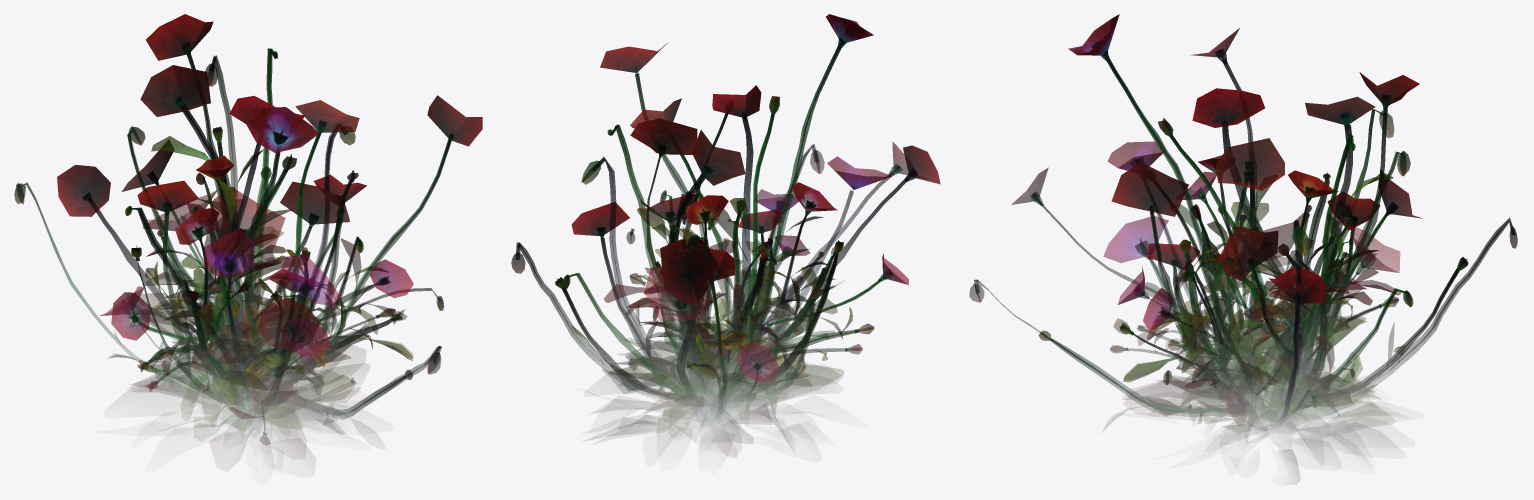
The model's file is vmcobd0ja_tier_3.gltf.
3 views of the same model, side by side, from view 1: azimuth 30°, elevation 25°; view 2: azimuth 150°, elevation 25°; view 3: azimuth 270°, elevation 25° (orthographic). The views are drawn at different scales.
Parts seen in each view (by area): view 1: SM_vmcobd0ja_VarC, SM_vmcobd0ja_VarF, SM_vmcobd0ja_VarE, SM_vmcobd0ja_VarD, SM_vmcobd0ja_VarB, SM_vmcobd0ja_VarG, SM_vmcobd0ja_VarA, SM_vmcobd0ja_VarH; view 2: SM_vmcobd0ja_VarC, SM_vmcobd0ja_VarE, SM_vmcobd0ja_VarB, SM_vmcobd0ja_VarD, SM_vmcobd0ja_VarF, SM_vmcobd0ja_VarG, SM_vmcobd0ja_VarH, SM_vmcobd0ja_VarA; view 3: SM_vmcobd0ja_VarC, SM_vmcobd0ja_VarD, SM_vmcobd0ja_VarF, SM_vmcobd0ja_VarE, SM_vmcobd0ja_VarB, SM_vmcobd0ja_VarG, SM_vmcobd0ja_VarA, SM_vmcobd0ja_VarH.
Boxes of the visible parts, box(x1,y1,x2,y2) form: SM_vmcobd0ja_VarC: box(14, 14, 482, 441); SM_vmcobd0ja_VarF: box(100, 155, 444, 430); SM_vmcobd0ja_VarE: box(121, 48, 370, 420); SM_vmcobd0ja_VarD: box(131, 126, 413, 444); SM_vmcobd0ja_VarB: box(122, 140, 349, 427); SM_vmcobd0ja_VarG: box(137, 249, 395, 445); SM_vmcobd0ja_VarA: box(140, 65, 276, 378); SM_vmcobd0ja_VarH: box(150, 95, 304, 419); SM_vmcobd0ja_VarC: box(511, 42, 940, 447); SM_vmcobd0ja_VarE: box(607, 14, 890, 401); SM_vmcobd0ja_VarB: box(563, 193, 843, 424); SM_vmcobd0ja_VarD: box(555, 202, 845, 443); SM_vmcobd0ja_VarF: box(592, 182, 908, 428); SM_vmcobd0ja_VarG: box(629, 200, 874, 425); SM_vmcobd0ja_VarH: box(637, 85, 809, 438); SM_vmcobd0ja_VarA: box(604, 130, 755, 398); SM_vmcobd0ja_VarC: box(969, 28, 1517, 441); SM_vmcobd0ja_VarD: box(1038, 161, 1468, 425); SM_vmcobd0ja_VarF: box(1118, 155, 1386, 442); SM_vmcobd0ja_VarE: box(1068, 14, 1399, 405); SM_vmcobd0ja_VarB: box(1172, 169, 1422, 430); SM_vmcobd0ja_VarG: box(1110, 239, 1398, 425); SM_vmcobd0ja_VarA: box(1241, 96, 1401, 403); SM_vmcobd0ja_VarH: box(1192, 88, 1379, 434).
Size of what is drawn, in the model's own units: 0.7827 by 0.7733 by 0.9744.
Materials: 1 (1 with a texture image).
